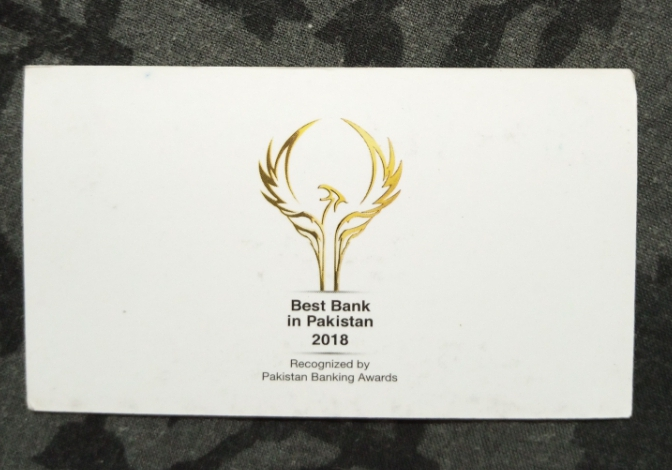alphabetical: (283, 295, 377, 352), (257, 357, 401, 391)
